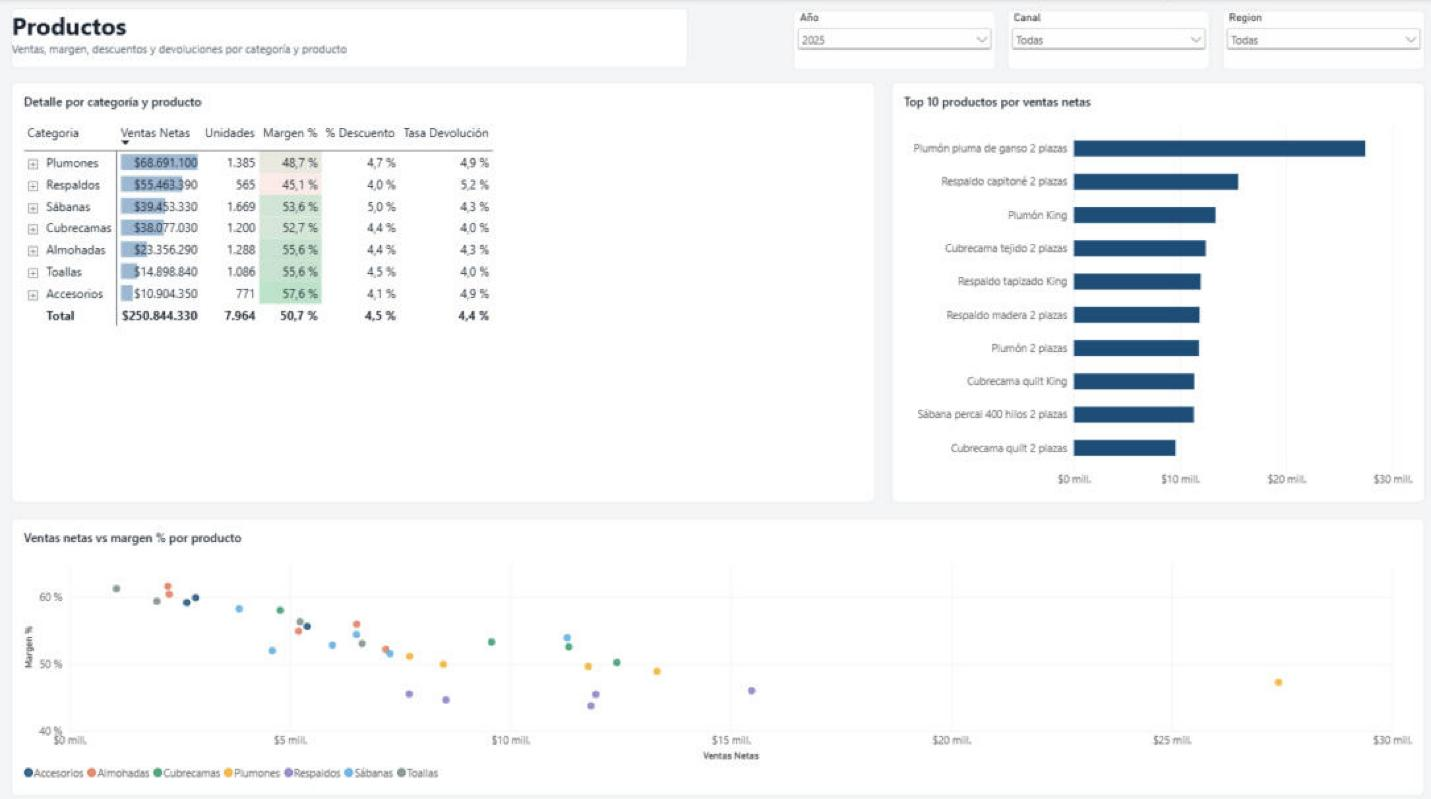

The page's visual inventory and layout, read from the dashboard file:
{"tool":"powerbi","page":{"name":"Productos","canvas":[1920,1080],"ordinal":1},"visuals":[{"type":"textbox","box":[20,12,900,80],"z":0},{"type":"slicer","fields":{"Values":["Calendario.Año"]},"box":[1060,15,270,80],"z":1000},{"type":"slicer","fields":{"Values":["Ventas.Canal"]},"box":[1345,15,270,80],"z":1001},{"type":"slicer","fields":{"Values":["Clientes.Region"]},"box":[1630,15,270,80],"z":1002},{"type":"pivotTable","title":"Detalle por categoría y producto","fields":{"Rows":["Productos.Categoria","Productos.Producto"],"Values":["Medidas.Ventas Netas","Medidas.Unidades","Medidas.Margen %","Medidas.% Descuento","Medidas.Tasa Devolución"]},"box":[20,110,1150,560],"z":1003},{"type":"clusteredBarChart","title":"Top 10 productos por ventas netas","fields":{"Category":["Productos.Producto"],"Y":["Medidas.Ventas Netas"]},"box":[1190,110,710,560],"z":1004},{"type":"scatterChart","title":"Ventas netas vs margen % por producto","fields":{"Category":["Productos.Producto"],"Series":["Productos.Categoria"],"X":["Medidas.Ventas Netas"],"Y":["Medidas.Margen %"]},"box":[20,690,1880,370],"z":1005}]}

Visuals, with their boxes in screenshot pixels (x1, y1, x2, y2), scaled from the page's 1920x1080 canvas onto the 1431x799 screenshot:
textbox: <region>15, 9, 686, 68</region>
slicer - Calendario.Año: <region>790, 11, 991, 70</region>
slicer - Ventas.Canal: <region>1002, 11, 1204, 70</region>
slicer - Clientes.Region: <region>1215, 11, 1416, 70</region>
"Detalle por categoría y producto" pivotTable: <region>15, 81, 872, 496</region>
"Top 10 productos por ventas netas" clusteredBarChart: <region>887, 81, 1416, 496</region>
"Ventas netas vs margen % por producto" scatterChart: <region>15, 510, 1416, 784</region>
